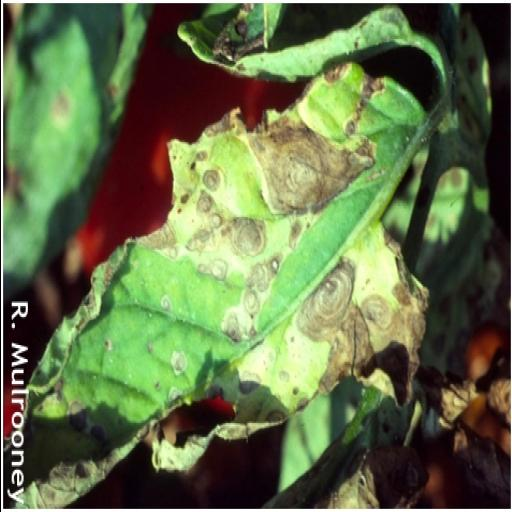Early Blight: (26, 54, 430, 434)
